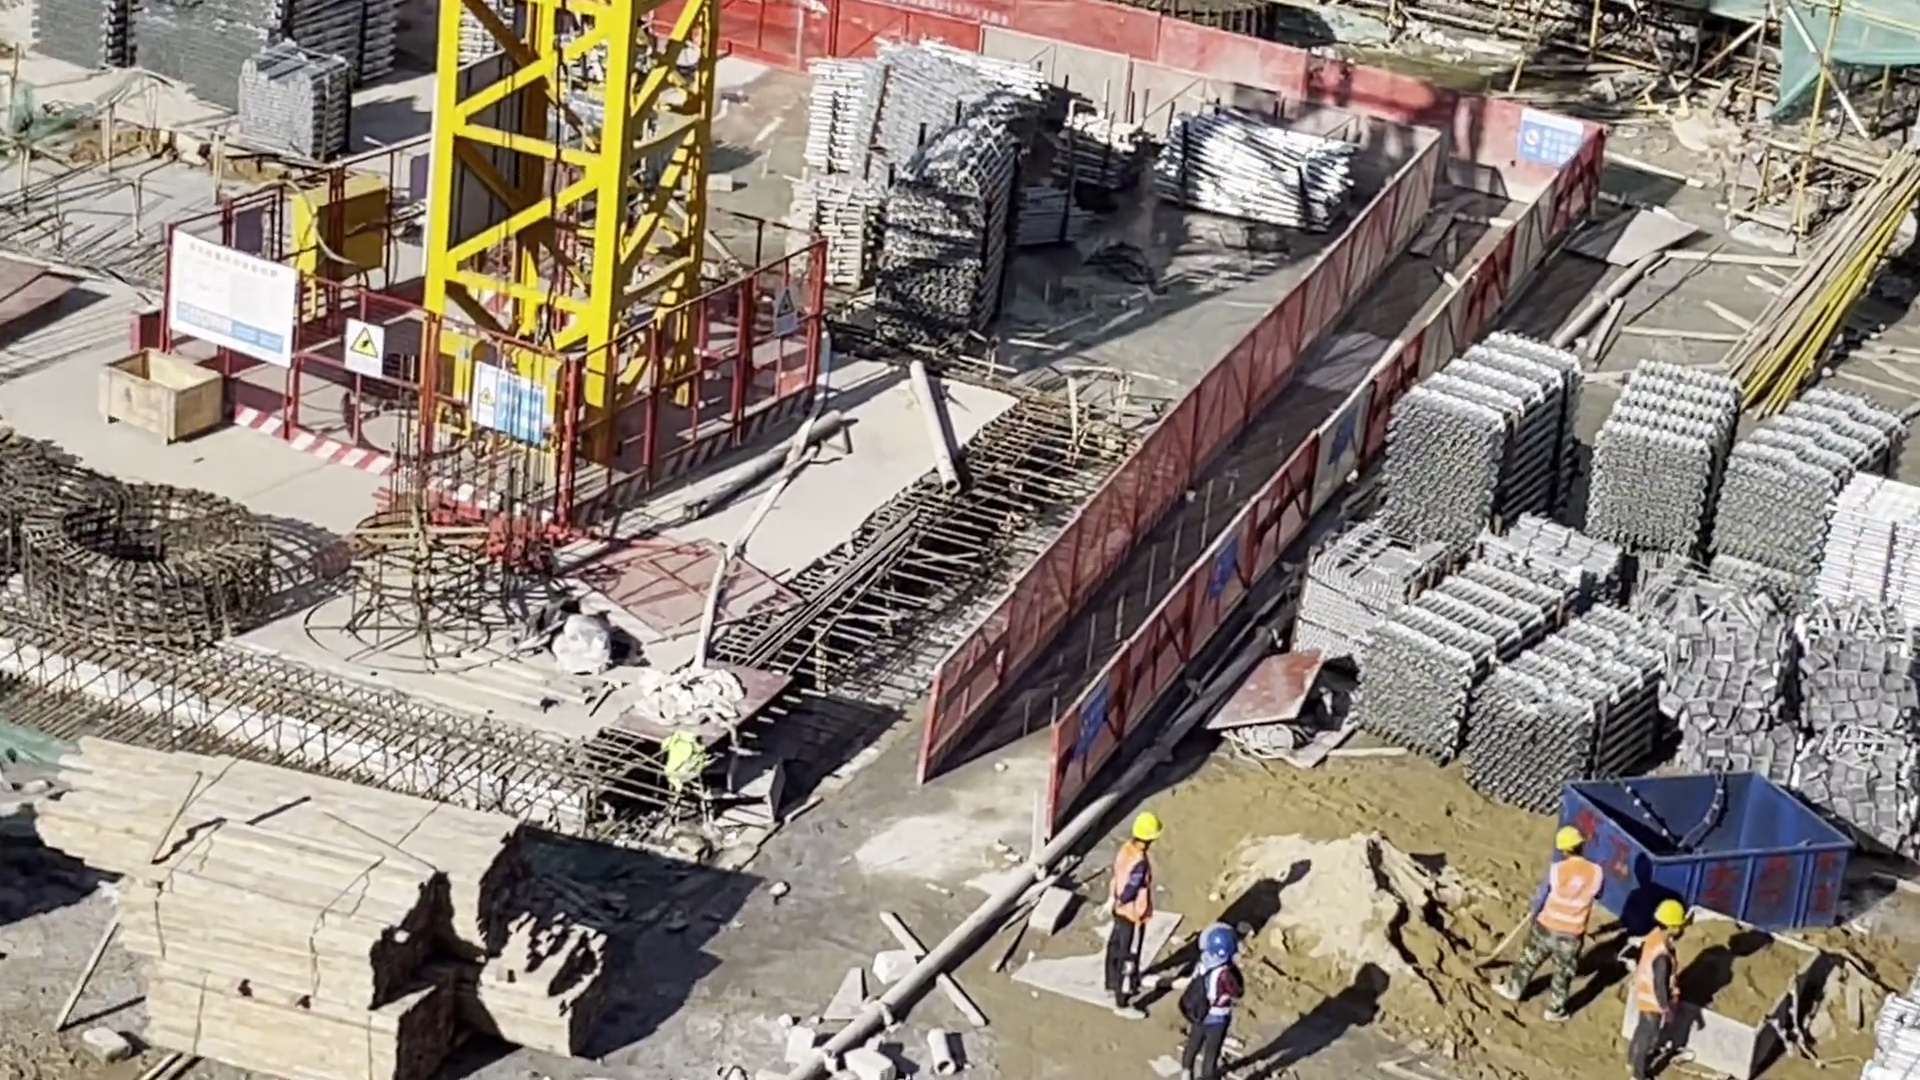fence: (906, 118, 1603, 821)
helmet: (1649, 891, 1694, 939), (1199, 921, 1242, 963), (1131, 809, 1167, 853), (1549, 817, 1588, 855)
hopper: (1574, 744, 1842, 940), (1634, 905, 1811, 1049)
person: (1530, 813, 1590, 1051), (1630, 886, 1697, 1080), (1168, 930, 1252, 1080), (1097, 810, 1153, 1029)
scaffold: (1361, 324, 1914, 754), (848, 27, 1274, 295), (157, 1, 393, 161)
slogan: (1521, 119, 1571, 160)
vest: (1094, 829, 1156, 919), (1544, 868, 1597, 931), (1641, 937, 1679, 1005)
wood: (125, 746, 622, 1064)
